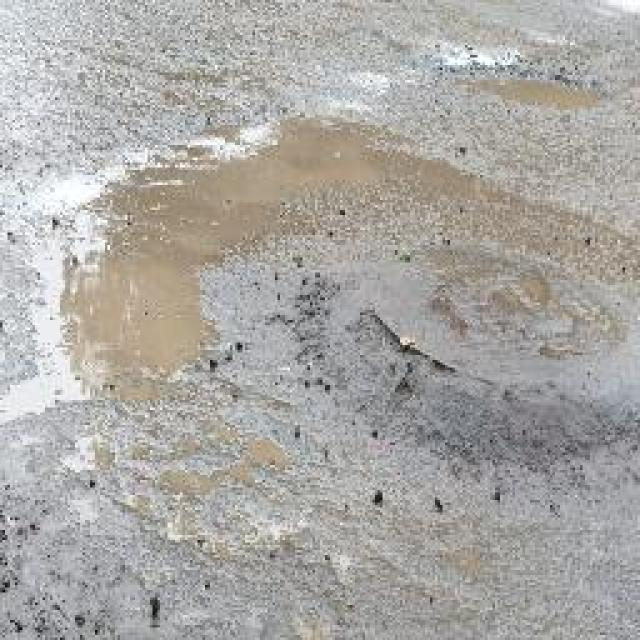stagnation: (22, 110, 412, 439), (431, 60, 618, 116)
